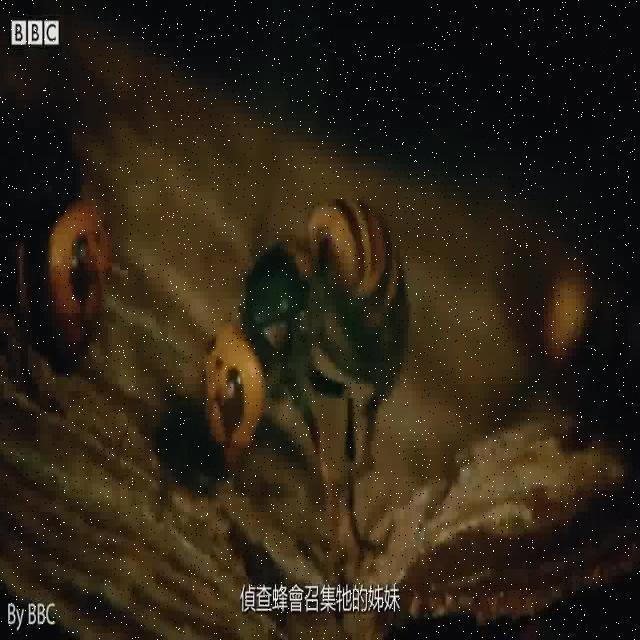Wasp: (169, 186, 417, 557)
